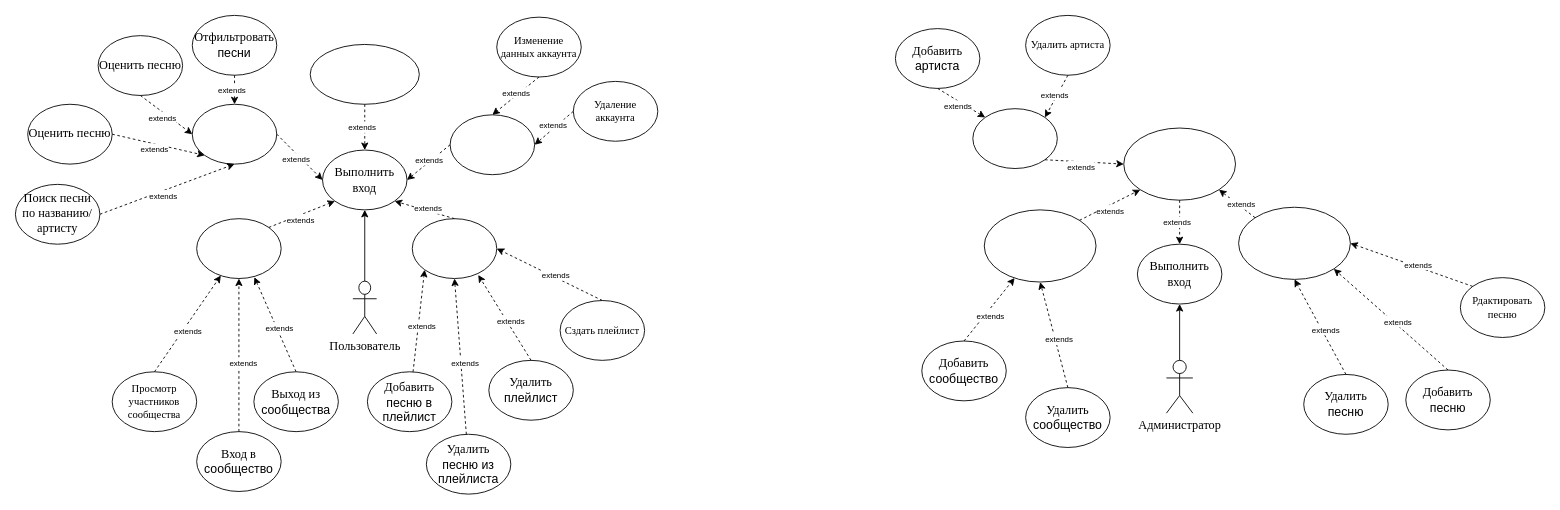
This 1560x510 diagram has some shape labels left out. The shapes that lost their labels are listed below. From the top down, each one's centre as x and y in pixels, then its label:
the point at 364,74: Зарегистрироваться
the point at 234,133: Управление песнями
the point at 492,144: Управление аккаунотм
the point at 1014,138: Дйствия над артистами
the point at 1179,163: Использовать панель администратора
the point at 238,248: Уавление сообществами
the point at 454,248: Управление плейлистами
the point at 1039,245: Действия над сообществами
the point at 1294,242: Действия над песнями
